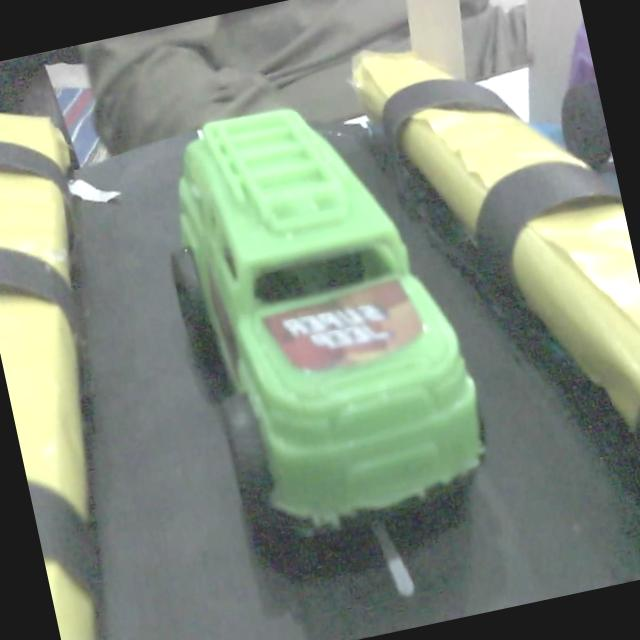OneCar: (170, 107, 487, 556)
